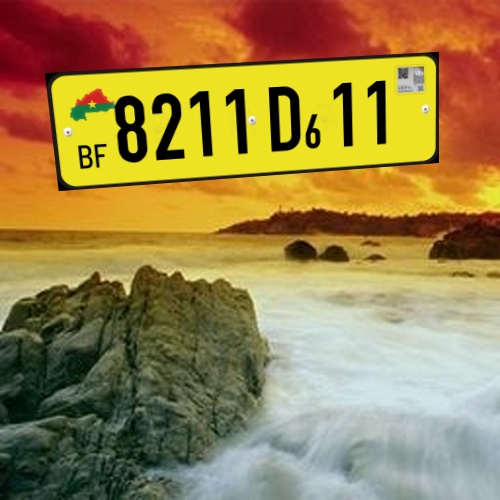plate: (32, 48, 454, 194)
